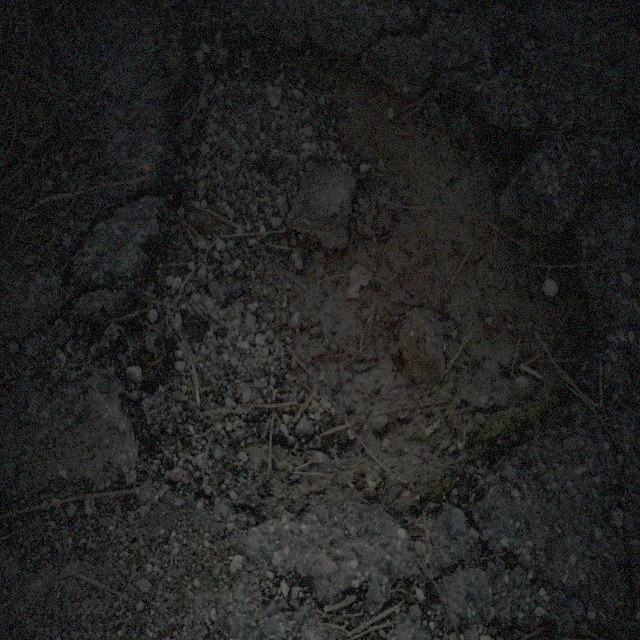pothole: (96, 14, 595, 536)
